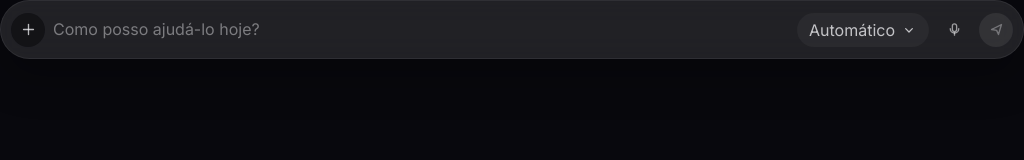
Scenario: CommandInputPanel › limpa erro bruto de STT antes de mostrar na UI
The width and height of the screenshot is (1024, 160).
Click the button named "Entrada por voz": (954, 30) [937,13,971,47]
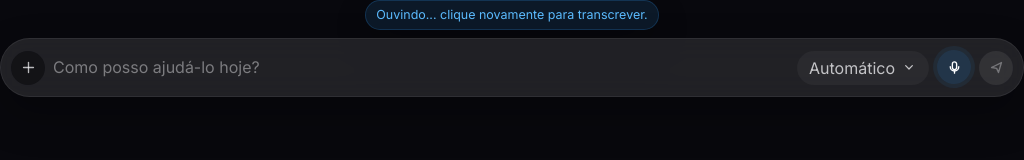
Click the button named "Parar transcrição de voz": (954, 67) [937,50,971,84]
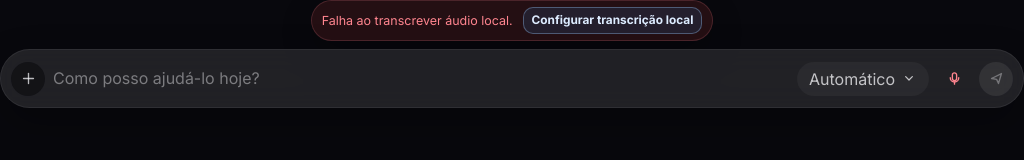
Check: the message shows "Falha ao transcrever áudio local.", box [322,13,512,28]
